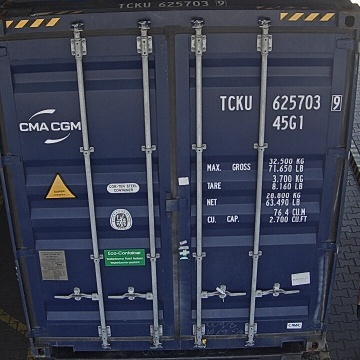serial_id: (220, 94, 341, 110)
